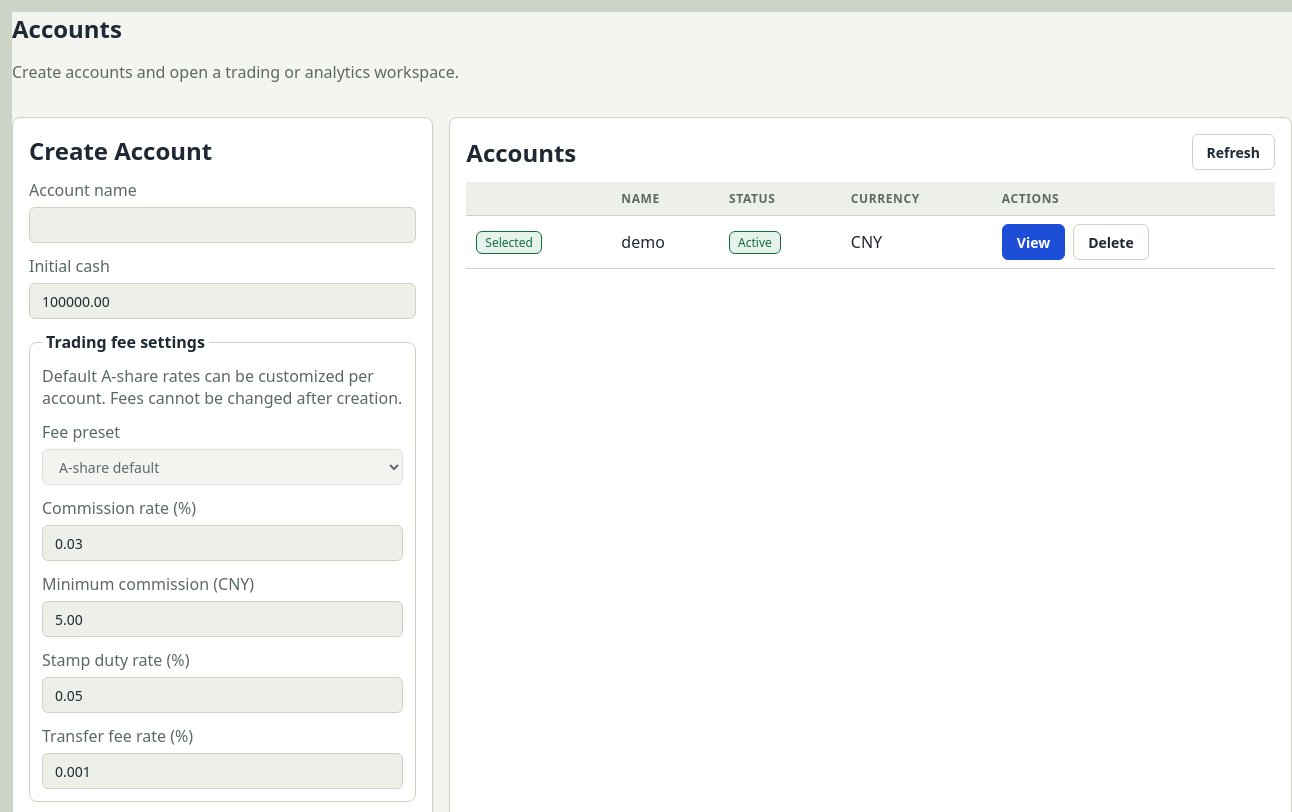
Scenario: AccountsPage › deletes an account after confirmation and refreshes the list
Click the button with aria-label "Delete demo": (1111, 242) [1073,224,1149,260]
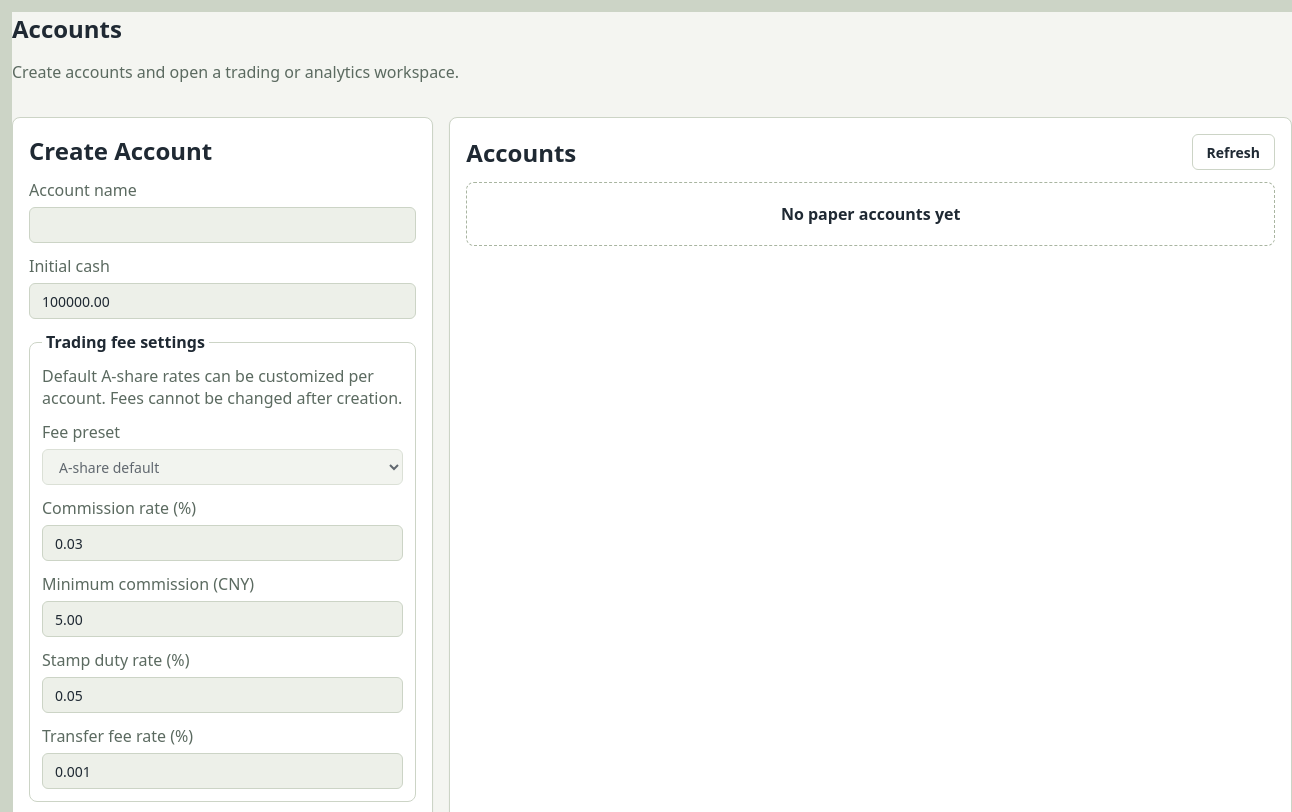
Expected: the text "No paper accounts yet" is shown, [781,203,960,225]
